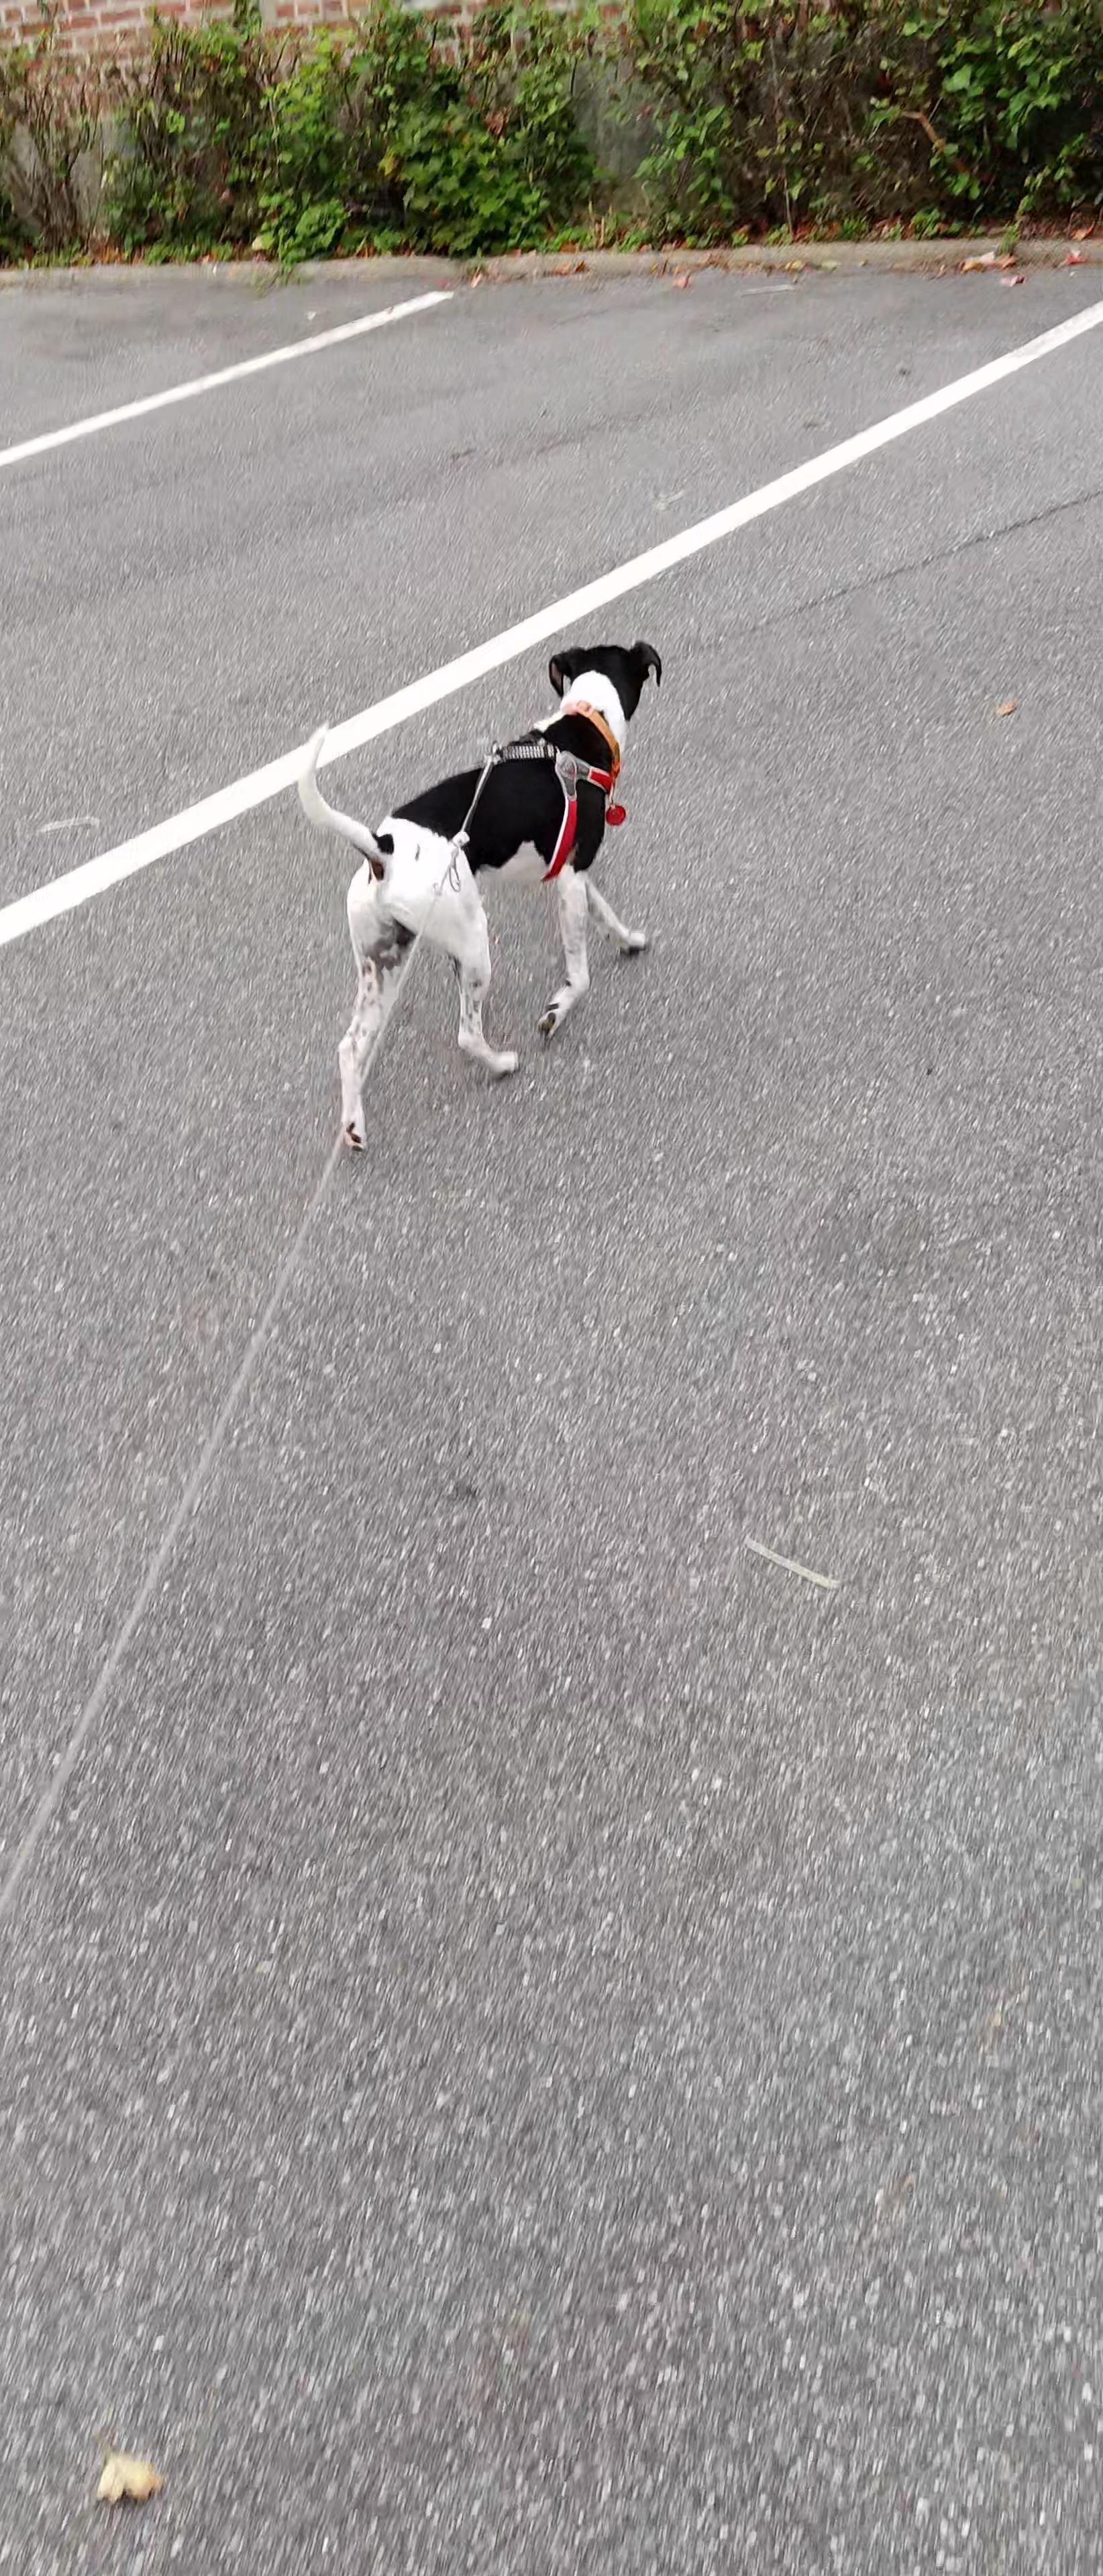Dog: (291, 634, 676, 1161)
